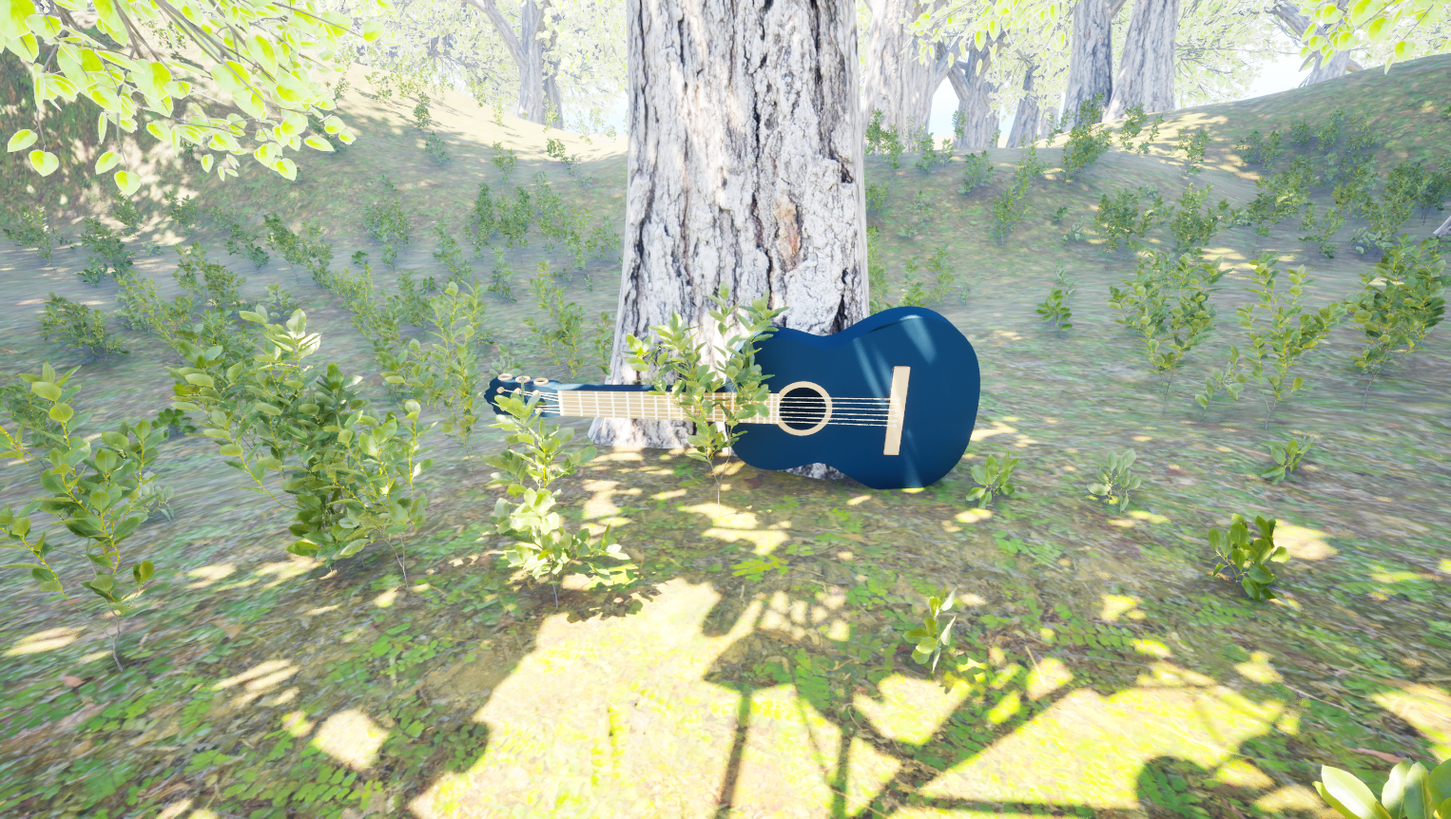Guitar: (448, 260, 1004, 654)
